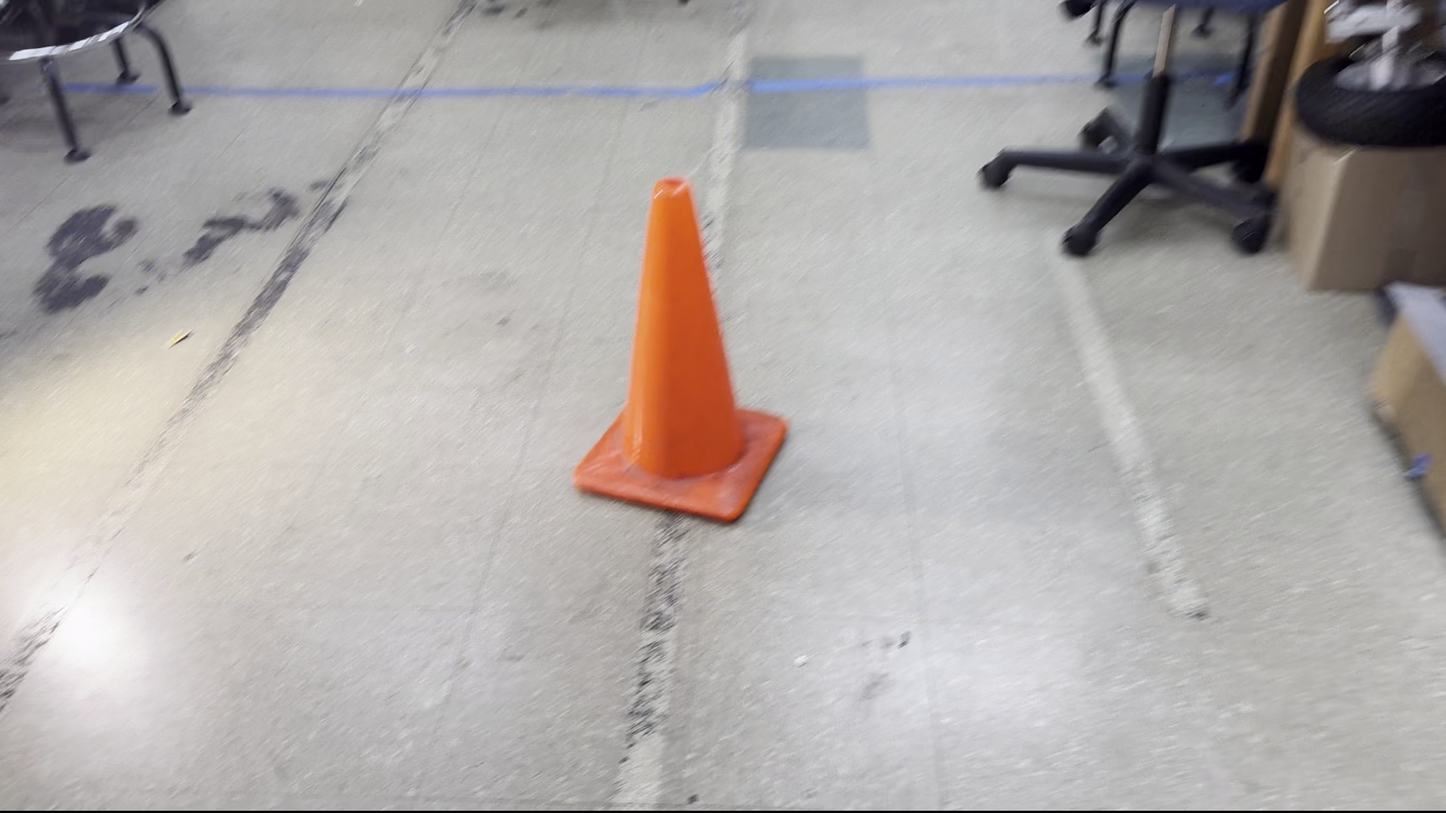traffic_cone: (572, 175, 789, 524)
